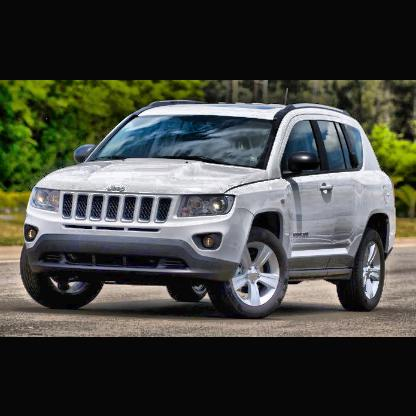Jeep Compass SUV 2012: (21, 99, 397, 319)
